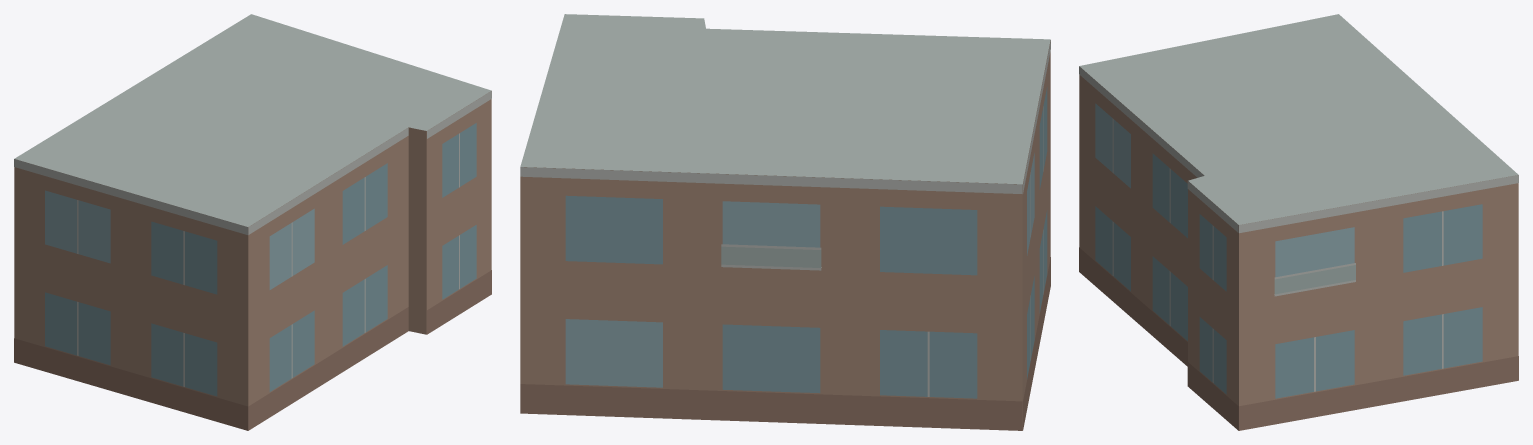
Rendered from survey-upis-33006325.glb.
The picture shows the model from 3 angles, left to right: view 1: azimuth 30°, elevation 25°; view 2: azimuth 150°, elevation 25°; view 3: azimuth 270°, elevation 25°; orthographic projection. The views are drawn at different scales.
Parts seen in each view (by area): view 1: survey-upis-33006325.tmp; view 2: survey-upis-33006325.tmp; view 3: survey-upis-33006325.tmp.
Boxes of the visible parts, <box> form: survey-upis-33006325.tmp: <box>14,14,491,430</box>; survey-upis-33006325.tmp: <box>520,14,1050,430</box>; survey-upis-33006325.tmp: <box>1079,14,1518,430</box>.
Bounding box in the file's own units: 13.43 × 6.1 × 11.82.
